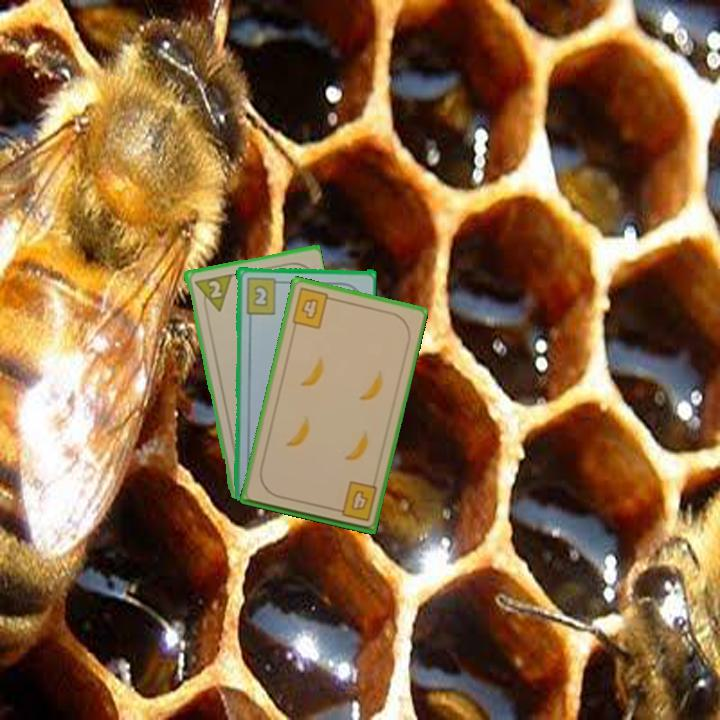2b: (242, 274, 285, 316)
2p: (190, 270, 234, 316)
4b: (288, 284, 337, 332), (330, 478, 380, 524)
